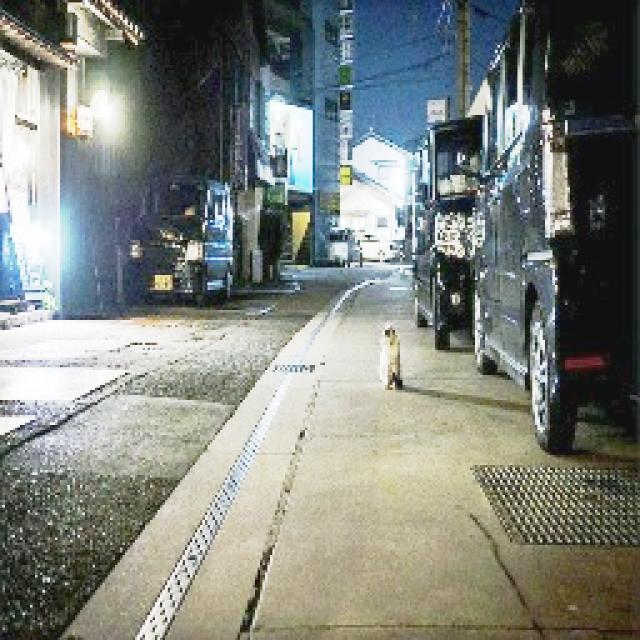cat: (358, 305, 416, 398)
